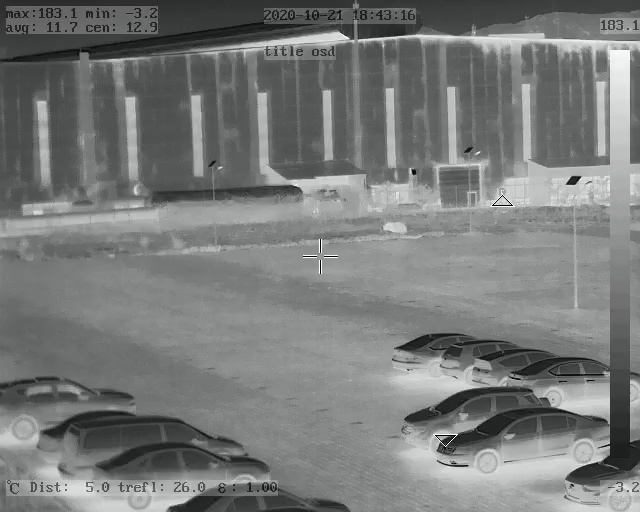vehicle: (35, 415, 247, 470), (92, 443, 269, 503), (434, 410, 607, 471), (4, 379, 138, 438), (403, 390, 551, 440), (562, 444, 640, 510), (163, 487, 348, 512), (502, 354, 608, 397), (465, 343, 545, 385), (440, 336, 505, 378), (390, 329, 451, 372)
